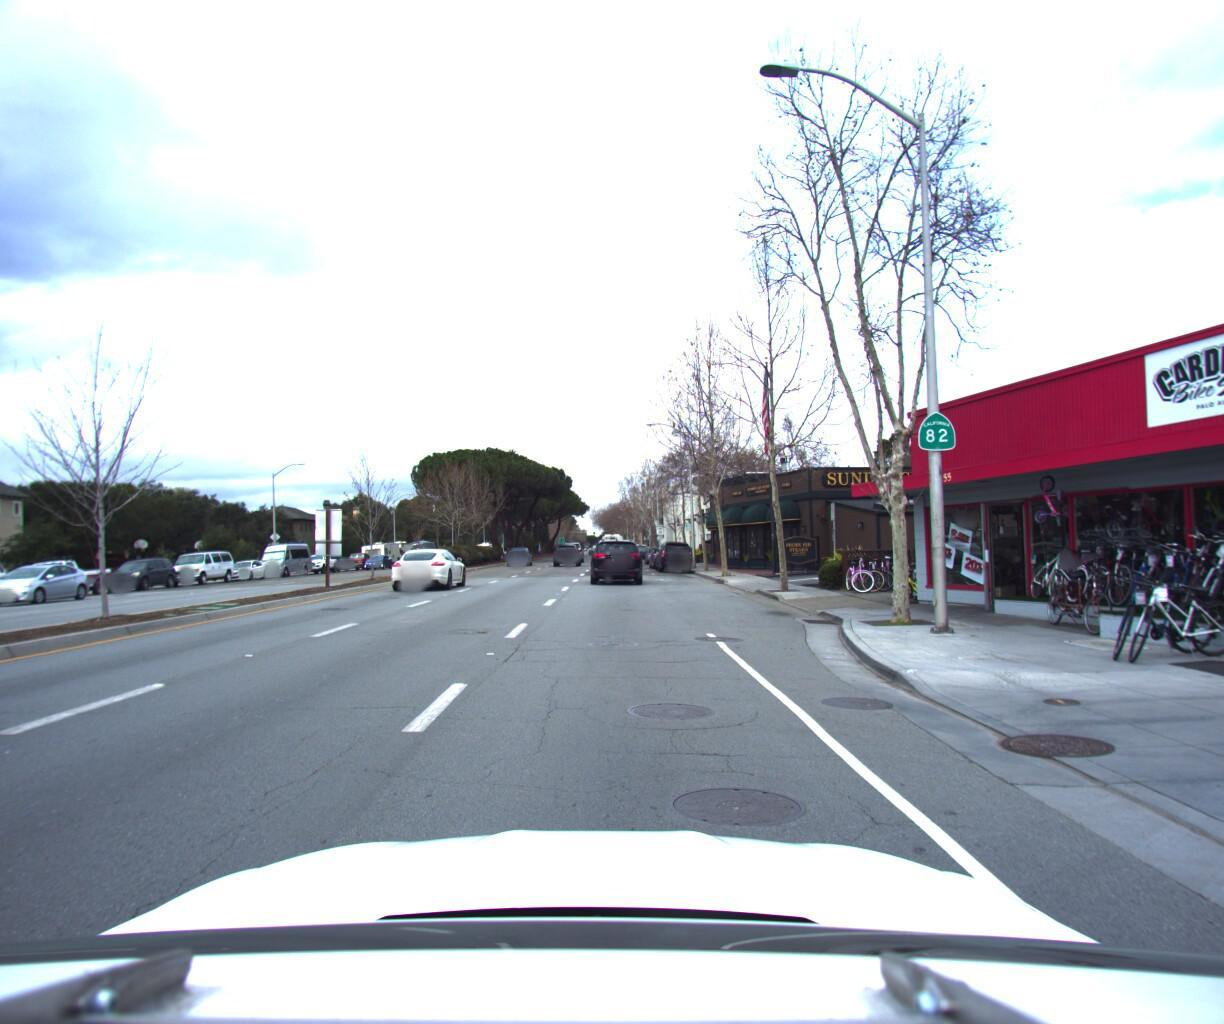bicycle: (1098, 560, 1224, 660), (1120, 557, 1224, 660), (1110, 528, 1220, 608), (1128, 527, 1224, 610), (1149, 527, 1224, 612), (1168, 520, 1224, 614), (1068, 554, 1122, 631), (1093, 534, 1147, 603), (1064, 534, 1113, 601), (1191, 527, 1224, 617), (1033, 534, 1076, 598), (863, 541, 902, 584), (852, 542, 889, 586), (899, 560, 935, 594), (1218, 523, 1224, 618)
car: (3, 546, 120, 598), (388, 540, 470, 587), (103, 548, 184, 588), (587, 529, 642, 580), (165, 543, 241, 580), (254, 532, 319, 573), (656, 532, 696, 568), (219, 550, 274, 576), (301, 544, 343, 567), (550, 531, 582, 556), (345, 543, 380, 564), (503, 536, 531, 557)
